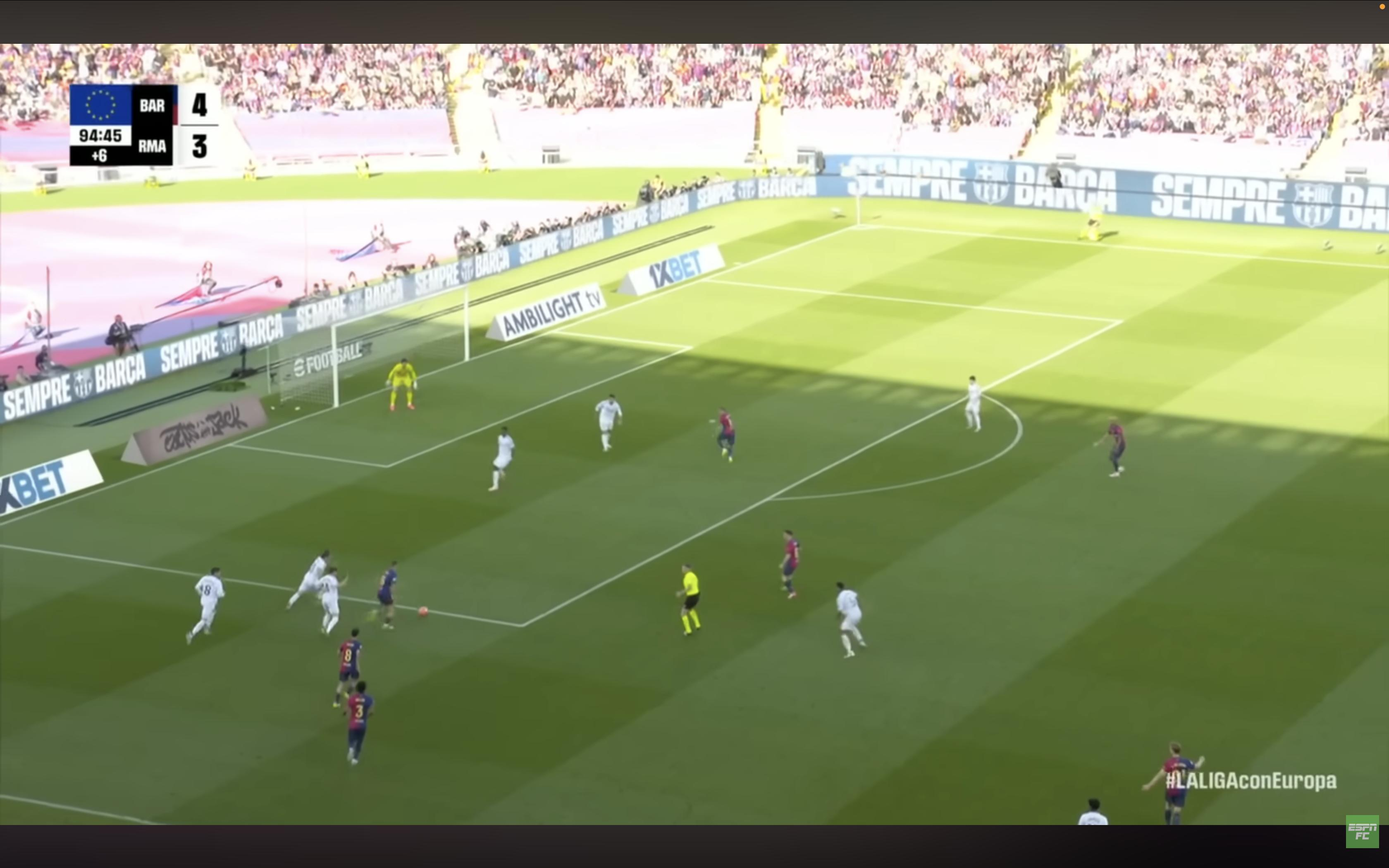ball: (418, 606, 430, 617)
goalkeeper: (386, 358, 418, 411)
player: (1143, 743, 1204, 824), (186, 568, 224, 644), (286, 550, 330, 610), (344, 682, 374, 765), (333, 628, 362, 708), (836, 582, 866, 657), (320, 566, 348, 635), (1094, 417, 1126, 477), (372, 561, 398, 630), (488, 427, 515, 492), (595, 394, 622, 452), (780, 529, 800, 599), (716, 408, 735, 462), (965, 376, 982, 432)
referee: (676, 563, 701, 636), (1083, 202, 1103, 242)
